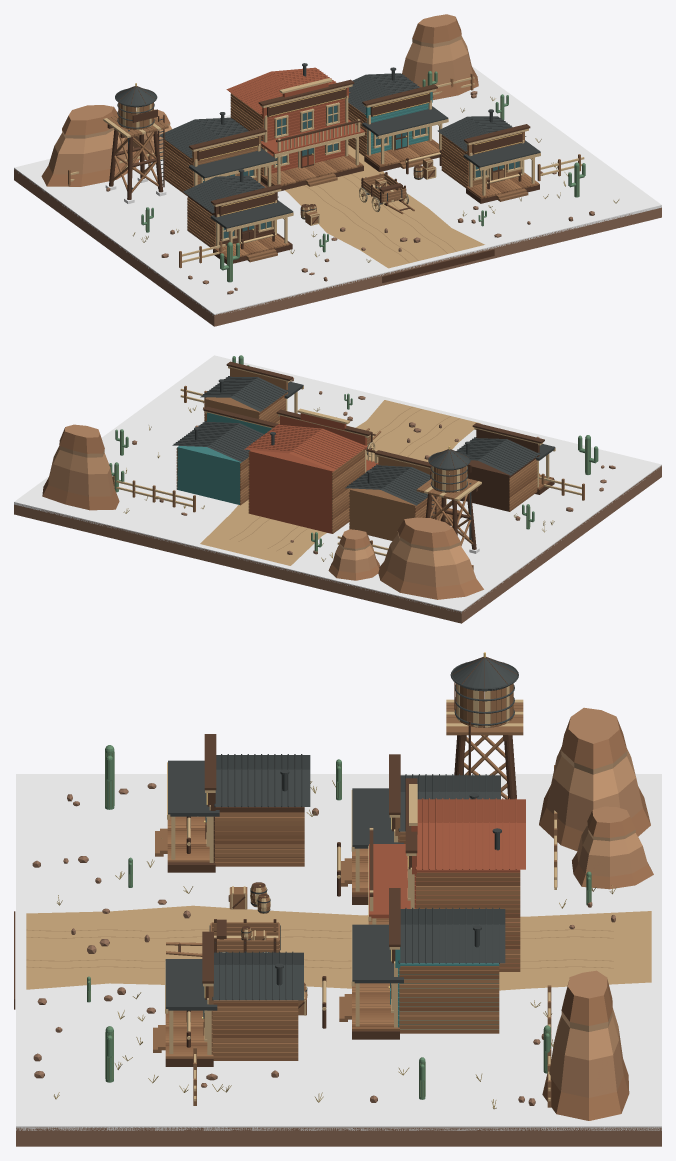
File: dustwood-town.glb
The picture shows the model from 3 angles, top to bottom: view 1: azimuth 30°, elevation 25°; view 2: azimuth 150°, elevation 25°; view 3: azimuth 270°, elevation 25°; orthographic projection. The views are drawn at different scales.
Parts seen in each view (by area): view 1: sand, iron, darkwood, trim, Pale dust on main street, stone, wood, red, Sandstone stratum 1, Sandstone stratum 0, Sandstone stratum 2, Aged wood 02 (+11 smaller); view 2: sand, red, iron, stone, Pale dust on main street, wood, Sandstone stratum 1, Sandstone stratum 0, darkwood, teal, trim, Sandstone stratum 2 (+10 smaller); view 3: sand, iron, Pale dust on main street, stone, red, darkwood, wood, Sandstone stratum 1, Sandstone stratum 0, trim, Aged wood 02, Sandstone stratum 2 (+12 smaller).
Boxes of the visible parts, x1,y1,x2,y2 form: sand: (14, 66, 661, 315); iron: (115, 63, 540, 228); darkwood: (107, 79, 539, 282); trim: (70, 76, 584, 262); Pale dust on main street: (284, 145, 484, 268); stone: (14, 91, 661, 326); wood: (68, 73, 580, 268); red: (226, 67, 364, 174); Sandstone stratum 1: (48, 14, 472, 174); Sandstone stratum 0: (41, 17, 478, 186); Sandstone stratum 2: (54, 36, 467, 153); Aged wood 02: (164, 93, 530, 255); sand: (14, 355, 661, 613); red: (244, 413, 378, 533); iron: (172, 376, 555, 539); stone: (14, 377, 661, 623); Pale dust on main street: (200, 400, 480, 565); wood: (112, 367, 584, 569); Sandstone stratum 1: (48, 424, 475, 587); Sandstone stratum 0: (42, 427, 483, 599); darkwood: (203, 361, 554, 549); teal: (177, 412, 271, 504); trim: (114, 366, 581, 556); Sandstone stratum 2: (53, 446, 469, 566); sand: (16, 774, 661, 1130); iron: (165, 657, 518, 1010); Pale dust on main street: (26, 905, 651, 990); stone: (16, 783, 661, 1146); red: (369, 798, 525, 967); darkwood: (14, 657, 517, 1066); wood: (153, 683, 557, 1107); Sandstone stratum 1: (546, 707, 647, 1097); Sandstone stratum 0: (539, 718, 653, 1120); trim: (165, 684, 556, 1101); Aged wood 02: (165, 816, 520, 1060); Sandstone stratum 2: (553, 747, 642, 1060).
Size of the model in its own units: 40 by 10.29 by 31.09.
